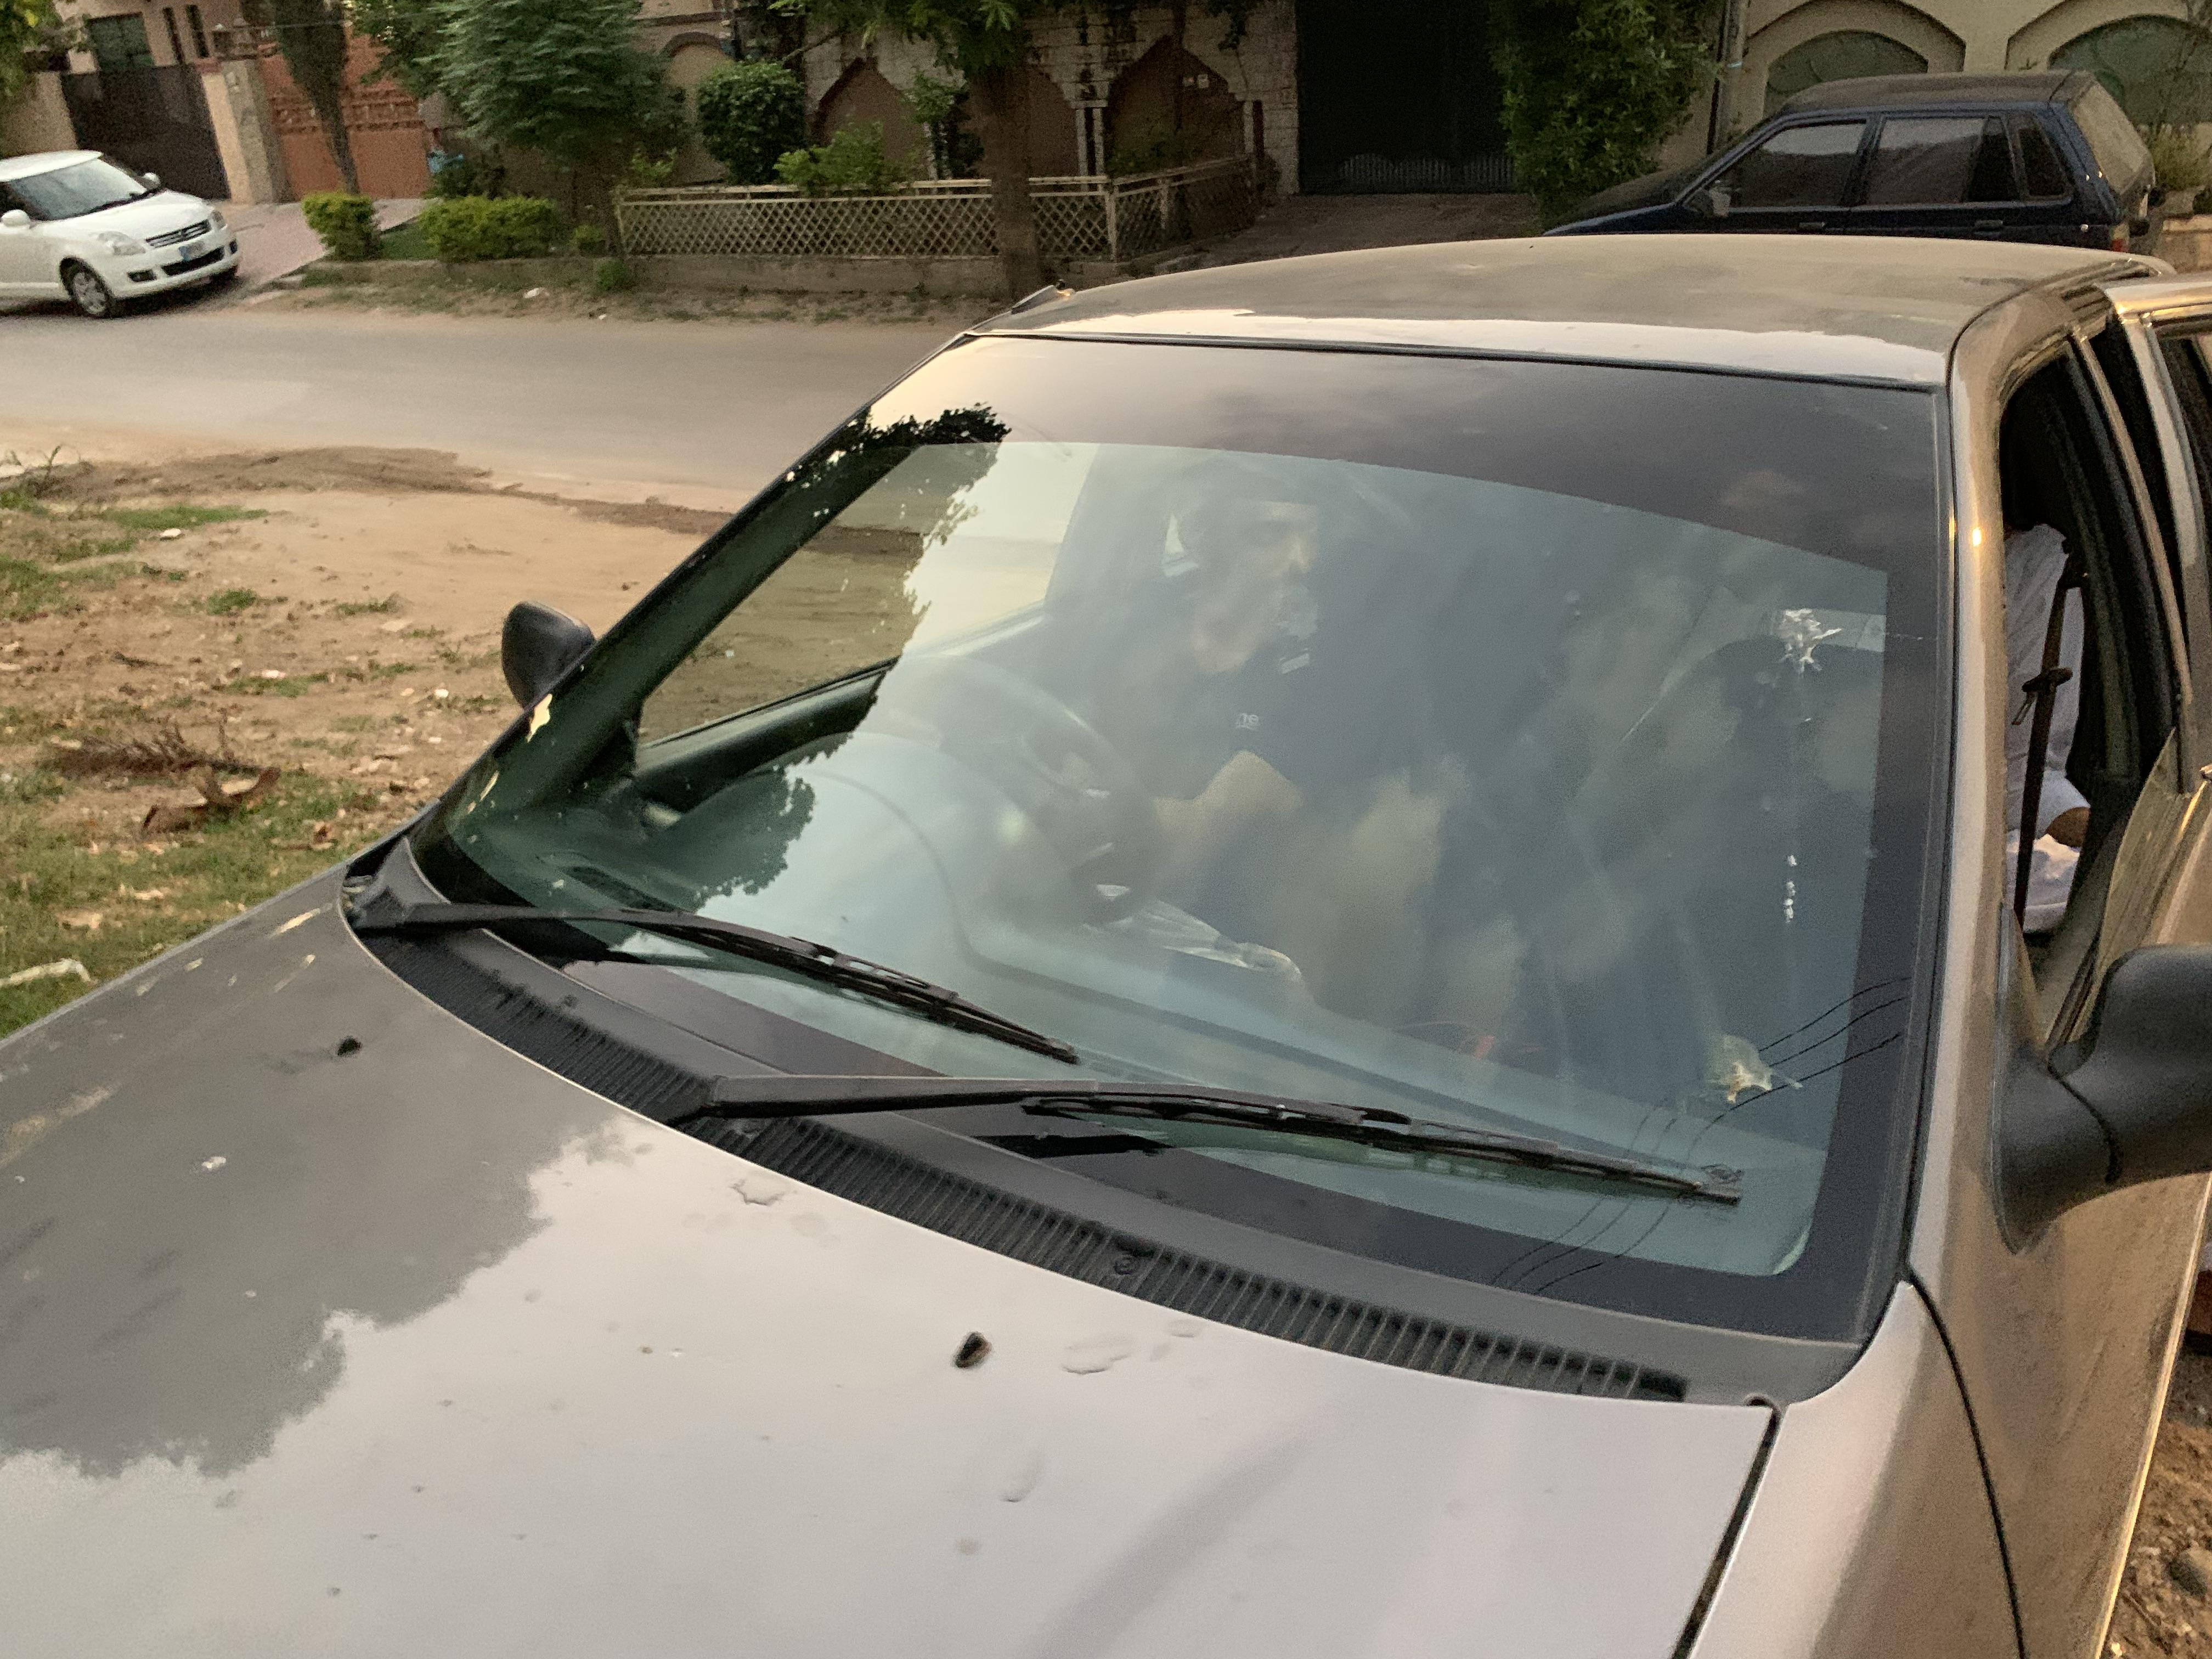windshield: (275, 286, 1987, 1415)
